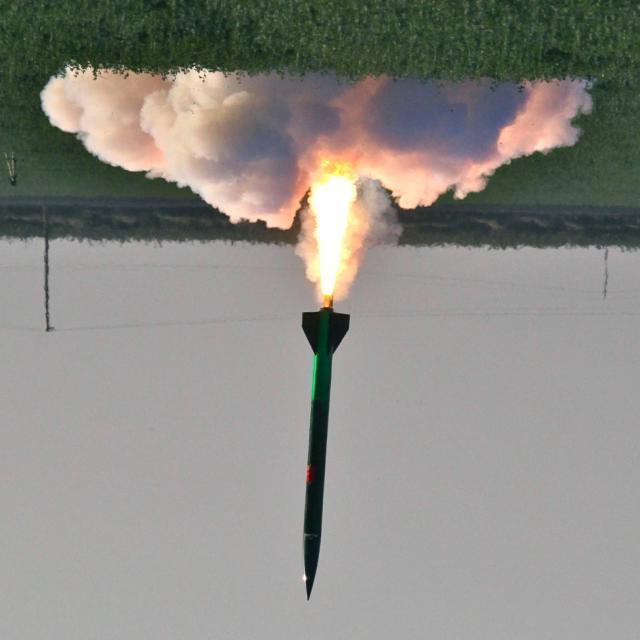missile: (299, 304, 352, 605)
